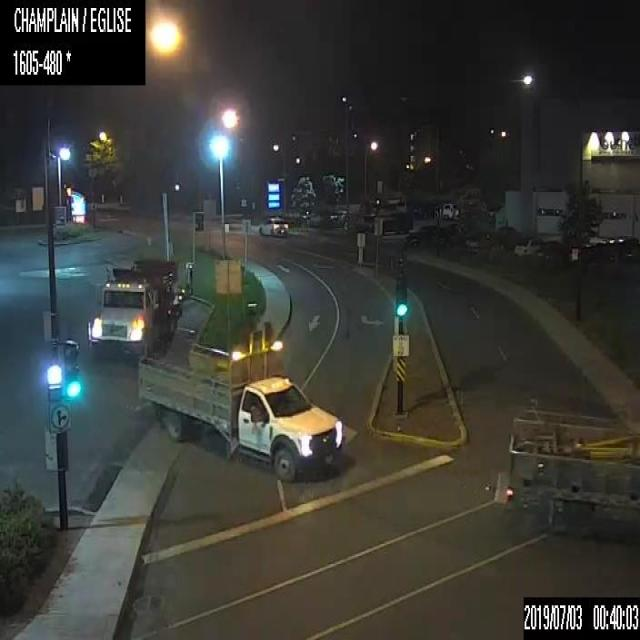vehicle: (135, 319, 341, 480), (506, 406, 639, 534), (88, 257, 194, 367), (367, 209, 412, 234), (408, 222, 451, 246), (513, 236, 544, 258), (466, 231, 494, 255), (534, 239, 562, 259), (257, 216, 288, 233), (396, 199, 418, 213), (442, 202, 458, 218)
